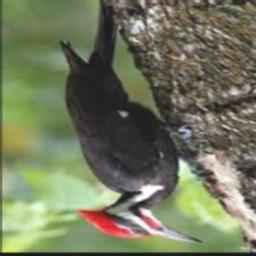Woodpecker: (60, 1, 205, 244)
